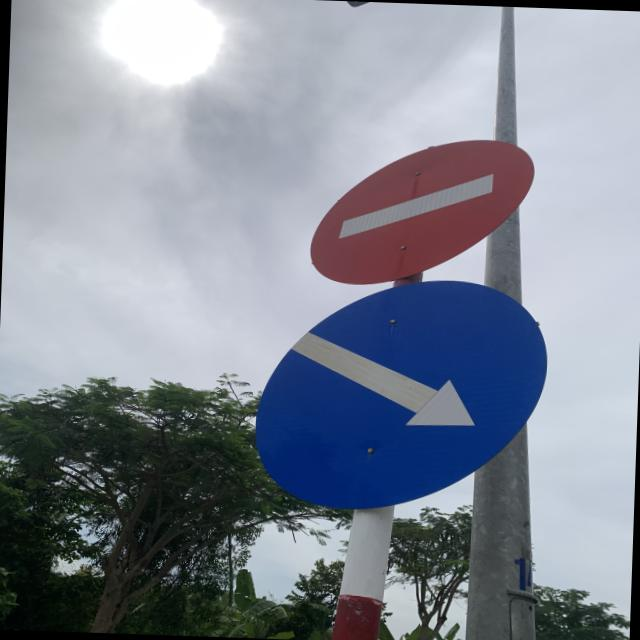Cam_Di_Nguoc_Chieu: (308, 131, 536, 288)
Chi_Huong_Di_Phai: (254, 274, 550, 514)
